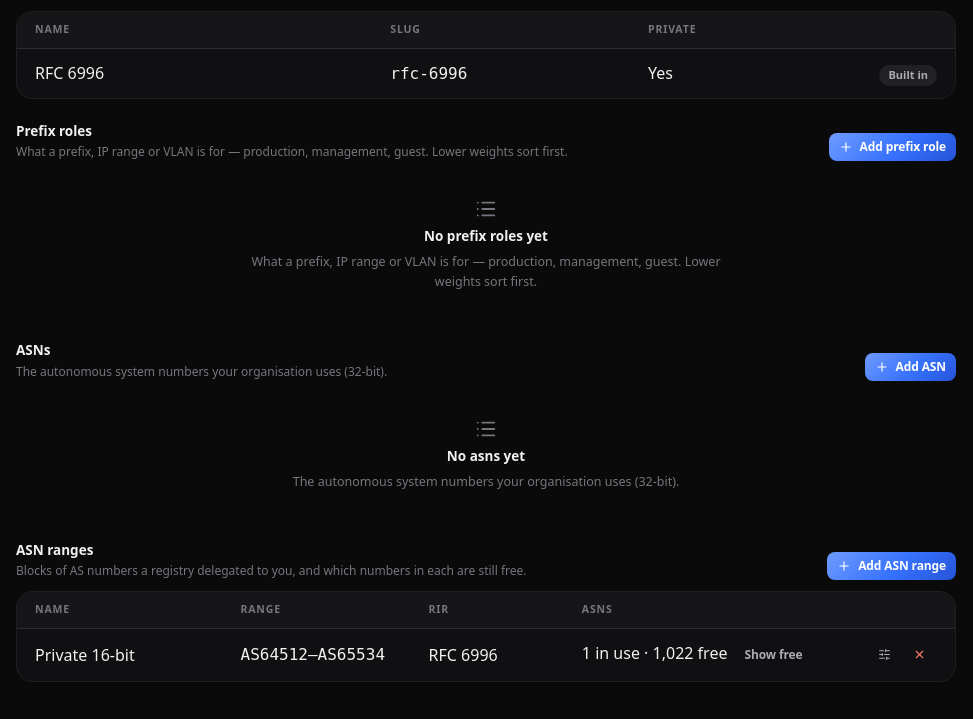
Test case: IPAM workspace → ASN ranges › lists a range with what is in use and free, and shows the free numbers on request
(page scrolled)
Expected: the element with test id "ipam-catalog-asn-ranges" shows "Private 16-bit", 35,644 -> 135,666
Expected: the element with test id "ipam-catalog-asn-ranges" shows "AS64512–AS65534", 16,591 -> 956,682
Click the button with test id "asn-range-show-free" at (774, 655), box 734,641 -> 814,669
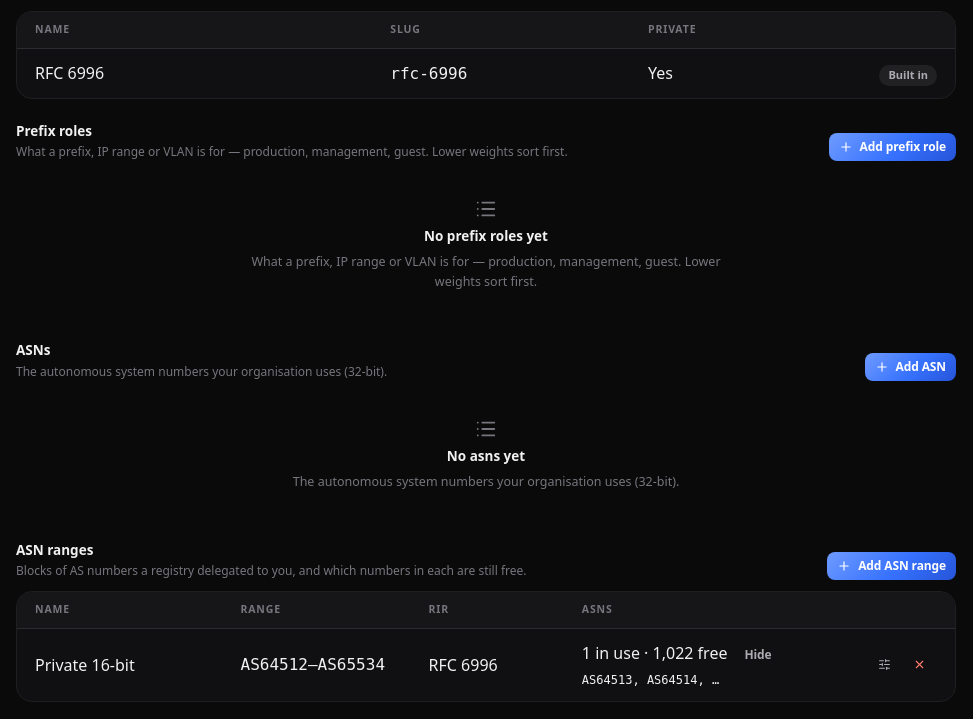
Result: the text with test id "asn-range-free-list" reads "AS64513, AS64514, …" at 582,673 -> 719,687
